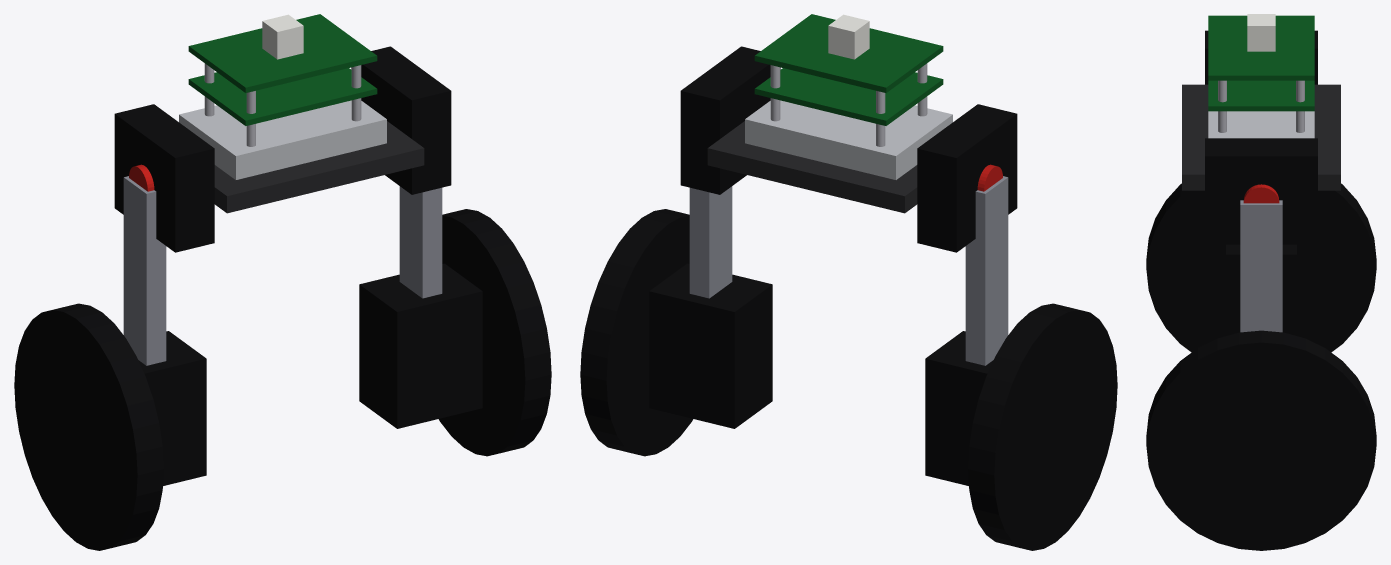
The model's file is pendulum.obj.
3 renders of one model, left to right at view 1: azimuth 30°, elevation 25°; view 2: azimuth 150°, elevation 25°; view 3: azimuth 270°, elevation 25°, orthographic. The views are drawn at different scales.
Visible parts, largest first — view 1: Wheel_Left, Wheel_Right, XL330_Wheel_Right, STS3032_Hip_Left, Battery_2S_LiPo, STS3032_Hip_Right, PCB_Servo_Driver, Leg_Link_Left, Chassis_Base_Plate, XL330_Wheel_Left, PCB_ESP32_Controller, Leg_Link_Right (+1 smaller); view 2: Wheel_Left, Wheel_Right, XL330_Wheel_Right, STS3032_Hip_Left, Battery_2S_LiPo, STS3032_Hip_Right, PCB_Servo_Driver, Leg_Link_Left, Chassis_Base_Plate, XL330_Wheel_Left, PCB_ESP32_Controller, Leg_Link_Right (+1 smaller); view 3: Wheel_Right, Wheel_Left, STS3032_Hip_Right, PCB_Servo_Driver, Leg_Link_Right, Chassis_Base_Plate, PCB_ESP32_Controller, XL330_Wheel_Left, Battery_2S_LiPo, IMU_Sensor, STS3032_Hip_Right_Horn, STS3032_Hip_Left.
Boxes of the visible parts, x1,y1,x2,y2 form: Wheel_Left: [14, 303, 163, 550]; Wheel_Right: [438, 209, 551, 456]; XL330_Wheel_Right: [359, 263, 482, 428]; STS3032_Hip_Left: [114, 104, 214, 252]; Battery_2S_LiPo: [179, 100, 386, 179]; STS3032_Hip_Right: [351, 46, 451, 194]; PCB_Servo_Driver: [188, 14, 377, 92]; Leg_Link_Left: [123, 176, 166, 365]; Chassis_Base_Plate: [214, 121, 424, 213]; XL330_Wheel_Left: [138, 331, 206, 485]; PCB_ESP32_Controller: [188, 68, 377, 125]; Leg_Link_Right: [399, 186, 442, 298]; Wheel_Left: [968, 303, 1117, 550]; Wheel_Right: [580, 209, 693, 456]; XL330_Wheel_Right: [649, 263, 772, 428]; STS3032_Hip_Left: [917, 104, 1017, 252]; Battery_2S_LiPo: [745, 100, 952, 179]; STS3032_Hip_Right: [680, 46, 780, 194]; PCB_Servo_Driver: [754, 14, 943, 92]; Leg_Link_Left: [965, 176, 1008, 365]; Chassis_Base_Plate: [707, 121, 917, 213]; XL330_Wheel_Left: [925, 331, 993, 485]; PCB_ESP32_Controller: [754, 68, 943, 125]; Leg_Link_Right: [689, 186, 732, 298]; Wheel_Right: [1146, 330, 1376, 550]; Wheel_Left: [1146, 183, 1376, 352]; STS3032_Hip_Right: [1205, 138, 1317, 244]; PCB_Servo_Driver: [1208, 15, 1314, 80]; Leg_Link_Right: [1240, 200, 1282, 332]; Chassis_Base_Plate: [1182, 84, 1340, 190]; PCB_ESP32_Controller: [1208, 80, 1314, 111]; XL330_Wheel_Left: [1226, 244, 1296, 335]; Battery_2S_LiPo: [1208, 111, 1314, 138]; IMU_Sensor: [1247, 14, 1275, 51]; STS3032_Hip_Right_Horn: [1243, 184, 1279, 203]; STS3032_Hip_Left: [1205, 30, 1317, 84].
Bounding box in the file's own units: 0.126 × 0.1362 × 0.065.
